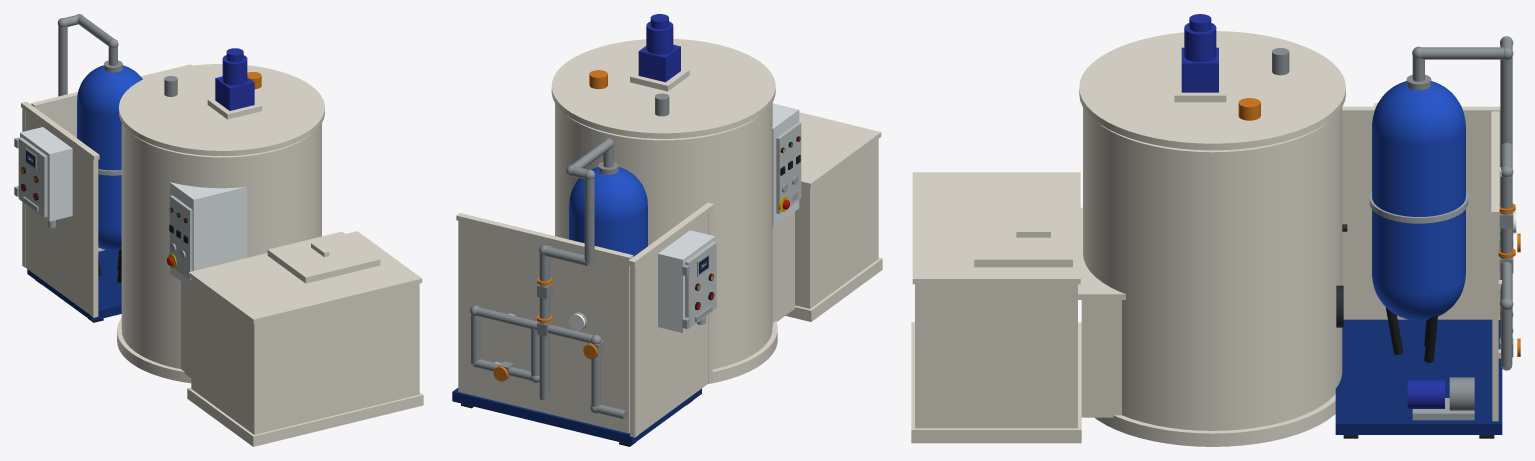
The model's file is dpp20.glb.
3 renders of one model, left to right at view 1: azimuth 30°, elevation 25°; view 2: azimuth 150°, elevation 25°; view 3: azimuth 270°, elevation 25°, orthographic. The views are drawn at different scales.
Visible parts, largest first — view 1: DP-vasca-raccolta, DP-reattore, DP-reattore-coperchio, DP-vasca-bordo, DP-pannello-retro, DP-quadro, DP-filtro-1, DP-coperchio-ispezione, DP-vasca-zoccolo, DP-pannello-quadretto, DP-cupola-filtro-1, DP-skid-base (+13 smaller); view 2: DP-reattore, DP-pannello, DP-reattore-coperchio, DP-vasca-raccolta, DP-pannello-retro, DP-vasca-bordo, DP-pannello-quadretto, DP-cupola-filtro-1, DP-skid-base, DP-armadio, DP-filtro-1, DP-pannello-quadretto-porta (+19 smaller); view 3: DP-reattore, DP-vasca-raccolta, DP-reattore-coperchio, DP-skid-base, DP-vasca-bordo, DP-filtro-1, DP-pannello-retro, DP-coperchio-ispezione, DP-armadio, DP-cupola-filtro-1, DP-reattore-zoccolo, DP-vasca-zoccolo (+16 smaller).
Part boxes in pixels (x1,y1,x2,y2): DP-vasca-raccolta: (191, 278, 419, 434); DP-reattore: (121, 123, 321, 368); DP-reattore-coperchio: (119, 64, 324, 155); DP-vasca-bordo: (188, 231, 422, 323); DP-pannello-retro: (26, 111, 98, 317); DP-quadro: (170, 182, 246, 288); DP-filtro-1: (77, 100, 121, 229); DP-coperchio-ispezione: (267, 231, 380, 283); DP-vasca-zoccolo: (187, 387, 423, 446); DP-pannello-quadretto: (20, 127, 72, 221); DP-cupola-filtro-1: (77, 65, 142, 115); DP-skid-base: (27, 250, 121, 320); DP-reattore: (555, 103, 772, 369); DP-pannello: (458, 221, 629, 433); DP-reattore-coperchio: (551, 39, 775, 138); DP-vasca-raccolta: (795, 139, 878, 308); DP-pannello-retro: (630, 213, 708, 437); DP-vasca-bordo: (799, 112, 881, 188); DP-pannello-quadretto: (658, 230, 715, 332); DP-cupola-filtro-1: (569, 167, 647, 221); DP-skid-base: (452, 388, 701, 444); DP-armadio: (772, 212, 794, 322); DP-filtro-1: (569, 204, 647, 256); DP-pannello-quadretto-porta: (685, 241, 716, 328); DP-reattore: (1083, 107, 1342, 430); DP-vasca-raccolta: (915, 284, 1077, 428); DP-reattore-coperchio: (1079, 31, 1345, 150); DP-skid-base: (1335, 319, 1502, 434); DP-vasca-bordo: (912, 172, 1080, 284); DP-filtro-1: (1372, 126, 1465, 293); DP-pannello-retro: (1342, 116, 1492, 319); DP-coperchio-ispezione: (974, 212, 1072, 267); DP-armadio: (1081, 300, 1121, 417); DP-cupola-filtro-1: (1372, 81, 1465, 145); DP-reattore-zoccolo: (1078, 370, 1335, 446); DP-vasca-zoccolo: (911, 322, 1081, 443).
Size of the model in its own units: 2.5 by 3.36 by 4.93.
17 materials, 2 textured.
